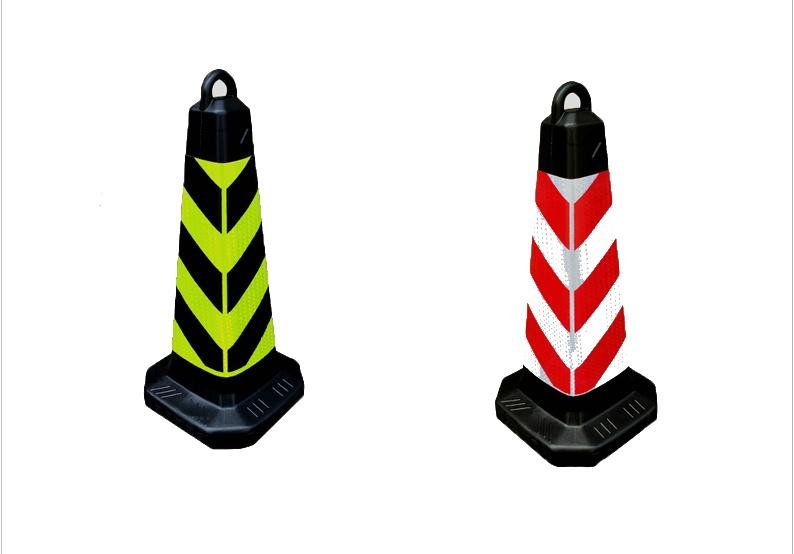cone_barrel: (485, 76, 666, 469), (138, 79, 314, 455)
